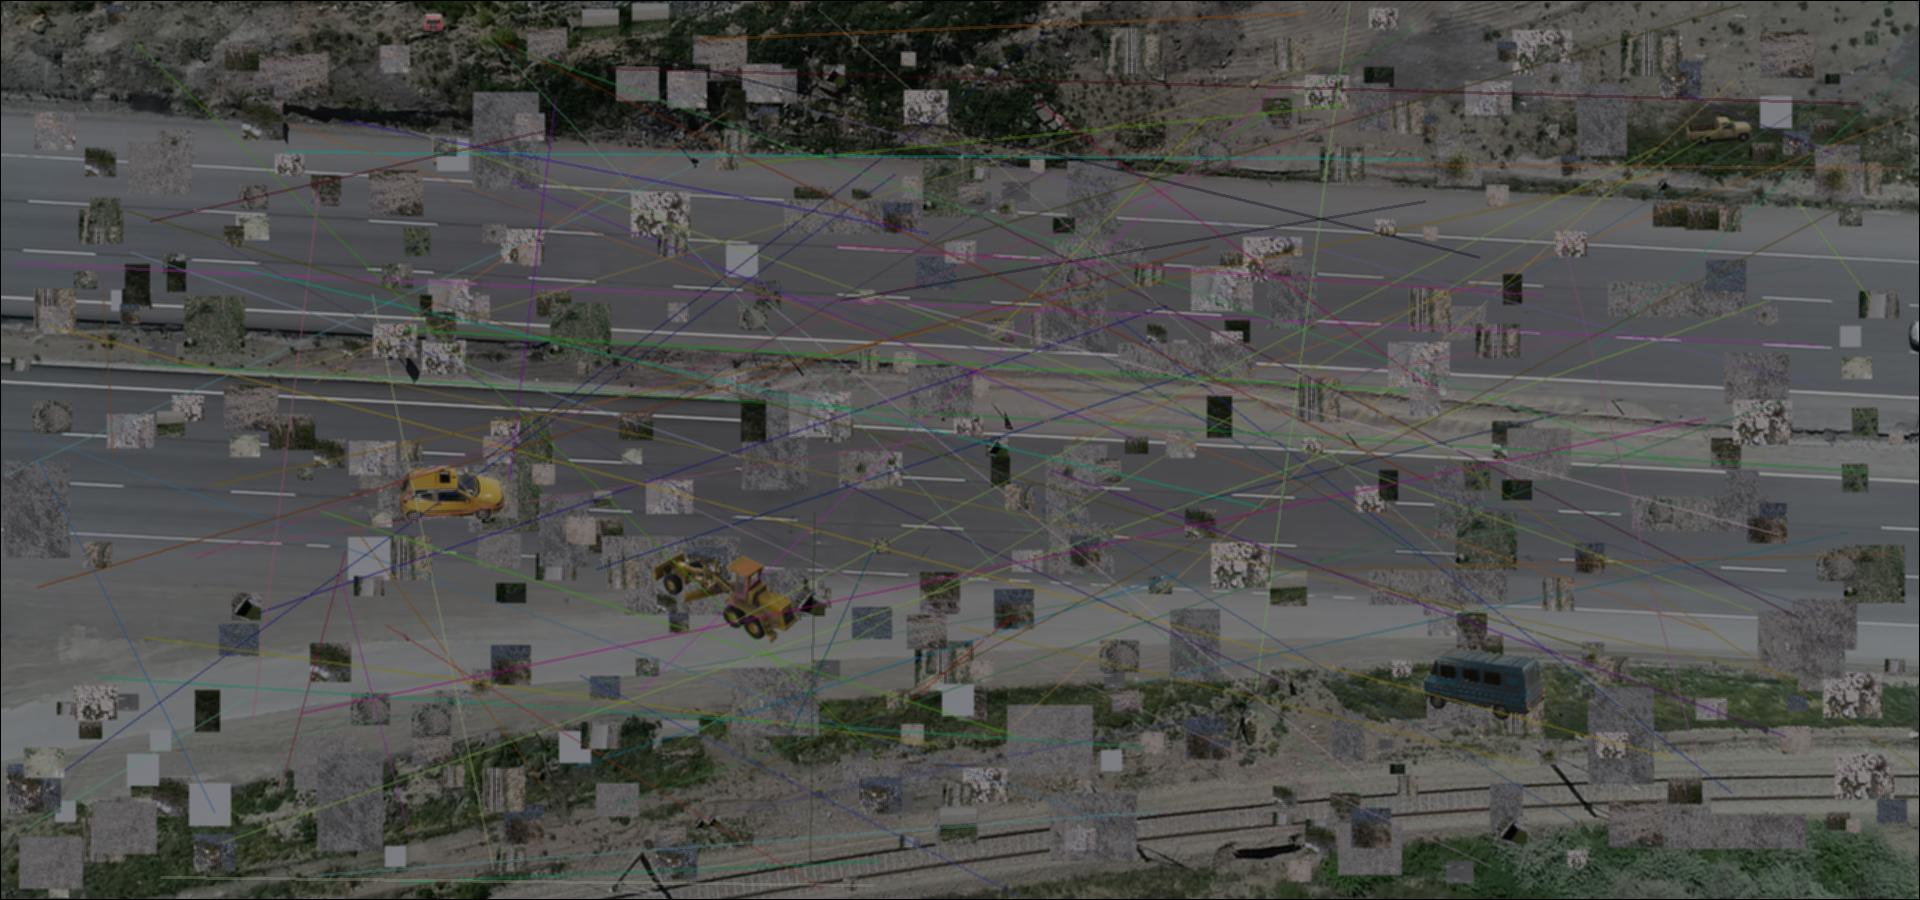arac: (650, 549, 804, 645), (1420, 647, 1547, 720), (400, 465, 506, 523), (1686, 115, 1753, 148), (421, 12, 444, 33)
